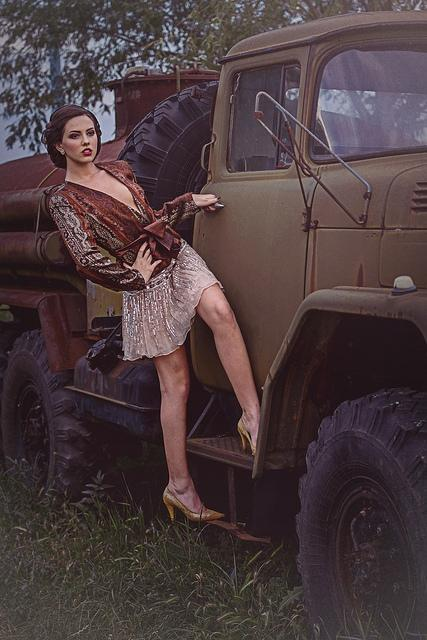truck: (0, 11, 427, 629)
